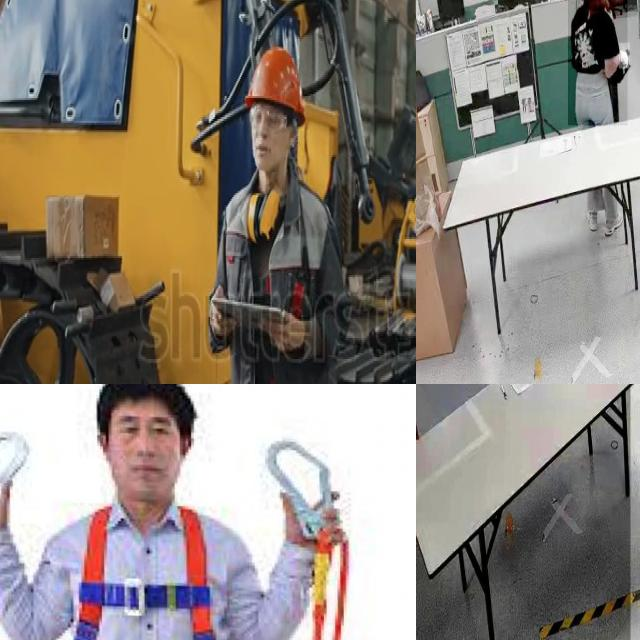Ear-protection: (246, 190, 281, 252)
Harness: (76, 502, 220, 640)
glasses: (247, 100, 292, 135)
hand_glove: (619, 43, 630, 69)
head_helmet: (244, 42, 307, 114)
person: (203, 41, 354, 384), (568, 0, 628, 126)
shoes: (602, 205, 626, 239), (584, 206, 600, 238)
